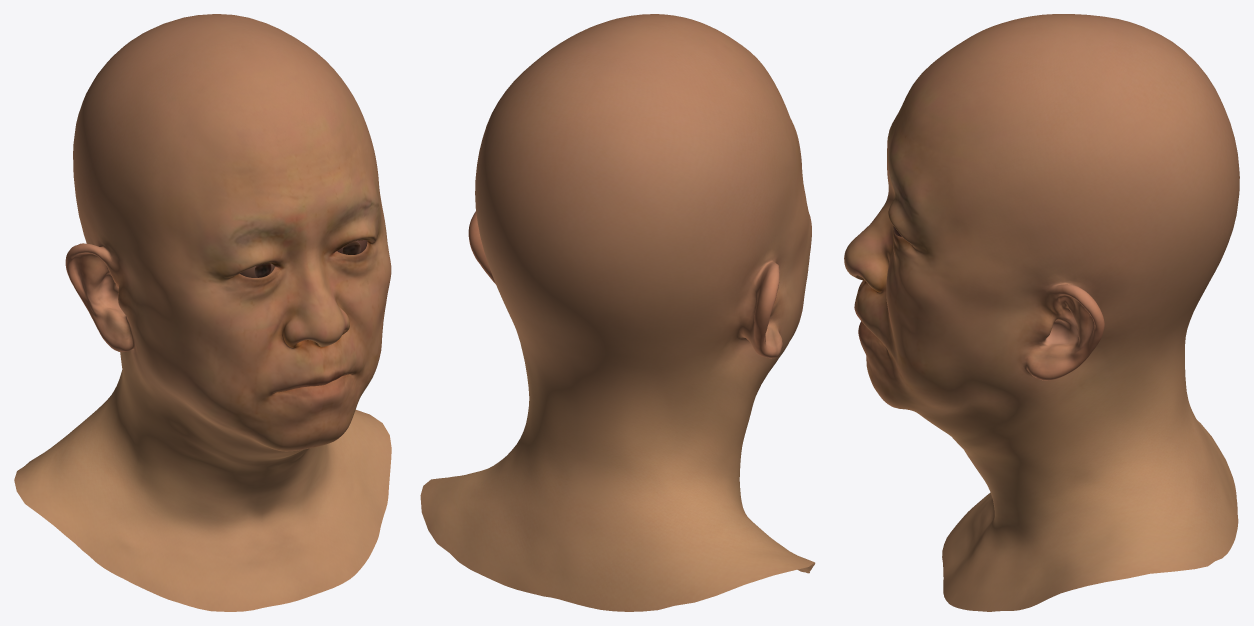
3 views of the same model, side by side, from view 1: azimuth 30°, elevation 25°; view 2: azimuth 150°, elevation 25°; view 3: azimuth 270°, elevation 25° (orthographic). The views are drawn at different scales.
Visible parts, largest first — view 1: UnchangedNativeHead; view 2: UnchangedNativeHead; view 3: UnchangedNativeHead.
Part boxes in pixels (left/top/right/bottom): UnchangedNativeHead: left=14, top=14, right=391, bottom=611; UnchangedNativeHead: left=420, top=14, right=815, bottom=611; UnchangedNativeHead: left=844, top=14, right=1239, bottom=611.
Size of the model in its own units: 1.29 by 1.84 by 1.2.
Materials: 3 (3 with a texture image).
